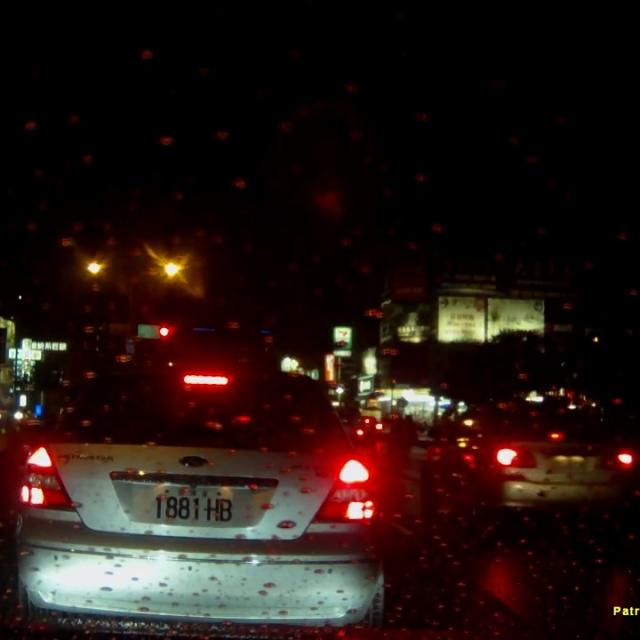Car: (13, 362, 386, 625), (421, 402, 639, 515)
